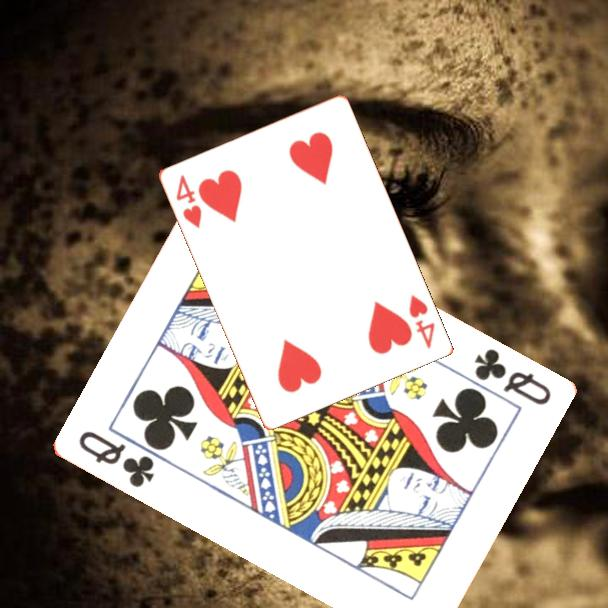c12: (470, 345, 554, 409), (74, 427, 157, 491)
h04: (405, 290, 437, 351), (172, 171, 204, 231)
